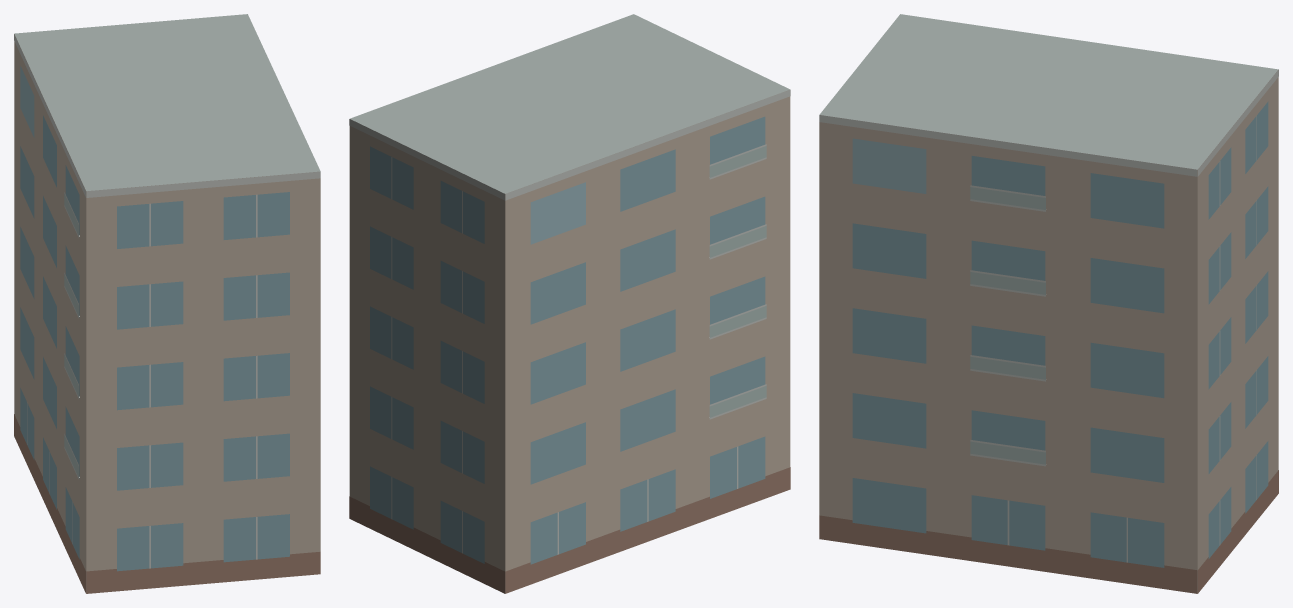
The model's file is survey-upis-32880545.glb.
The picture shows the model from 3 angles, left to right: view 1: azimuth 30°, elevation 25°; view 2: azimuth 150°, elevation 25°; view 3: azimuth 270°, elevation 25°; orthographic projection. The views are drawn at different scales.
Parts seen in each view (by area): view 1: survey-upis-32880545.tmp; view 2: survey-upis-32880545.tmp; view 3: survey-upis-32880545.tmp.
Part boxes in pixels (<box>): survey-upis-32880545.tmp: <box>14,14,320,593</box>; survey-upis-32880545.tmp: <box>349,14,790,593</box>; survey-upis-32880545.tmp: <box>819,14,1278,593</box>.
Size of the model in its own units: 11.34 by 14.4 by 14.14.
